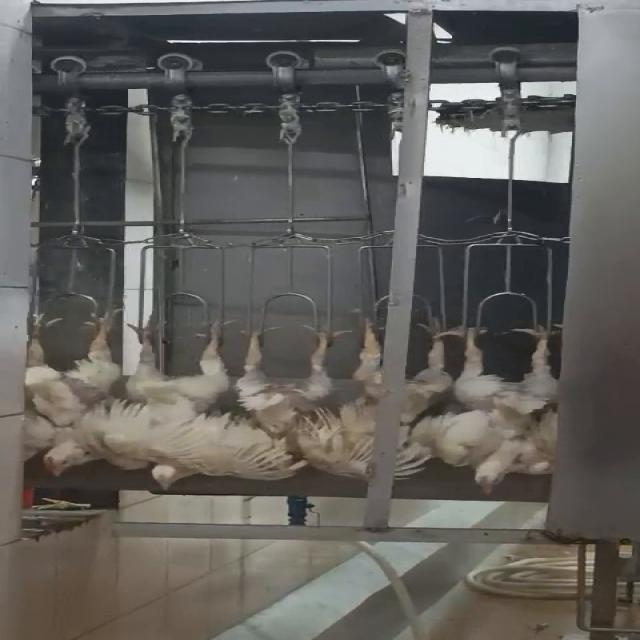chicken: (423, 319, 571, 493), (105, 316, 235, 490), (0, 316, 136, 467), (320, 307, 435, 482), (213, 328, 339, 483)
